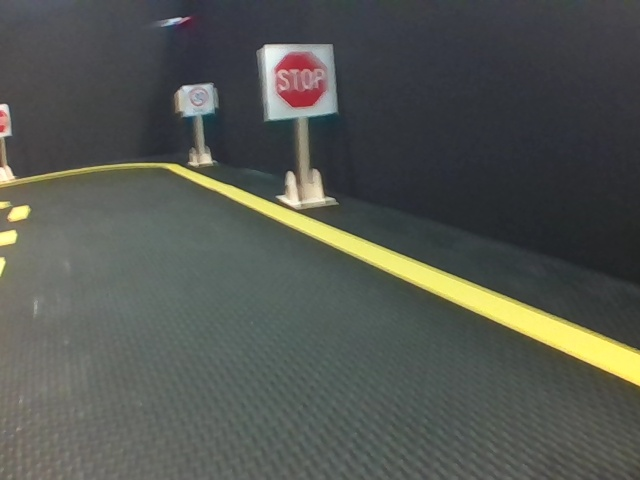30: (182, 84, 213, 113)
stop: (261, 43, 337, 116), (1, 105, 12, 135)
